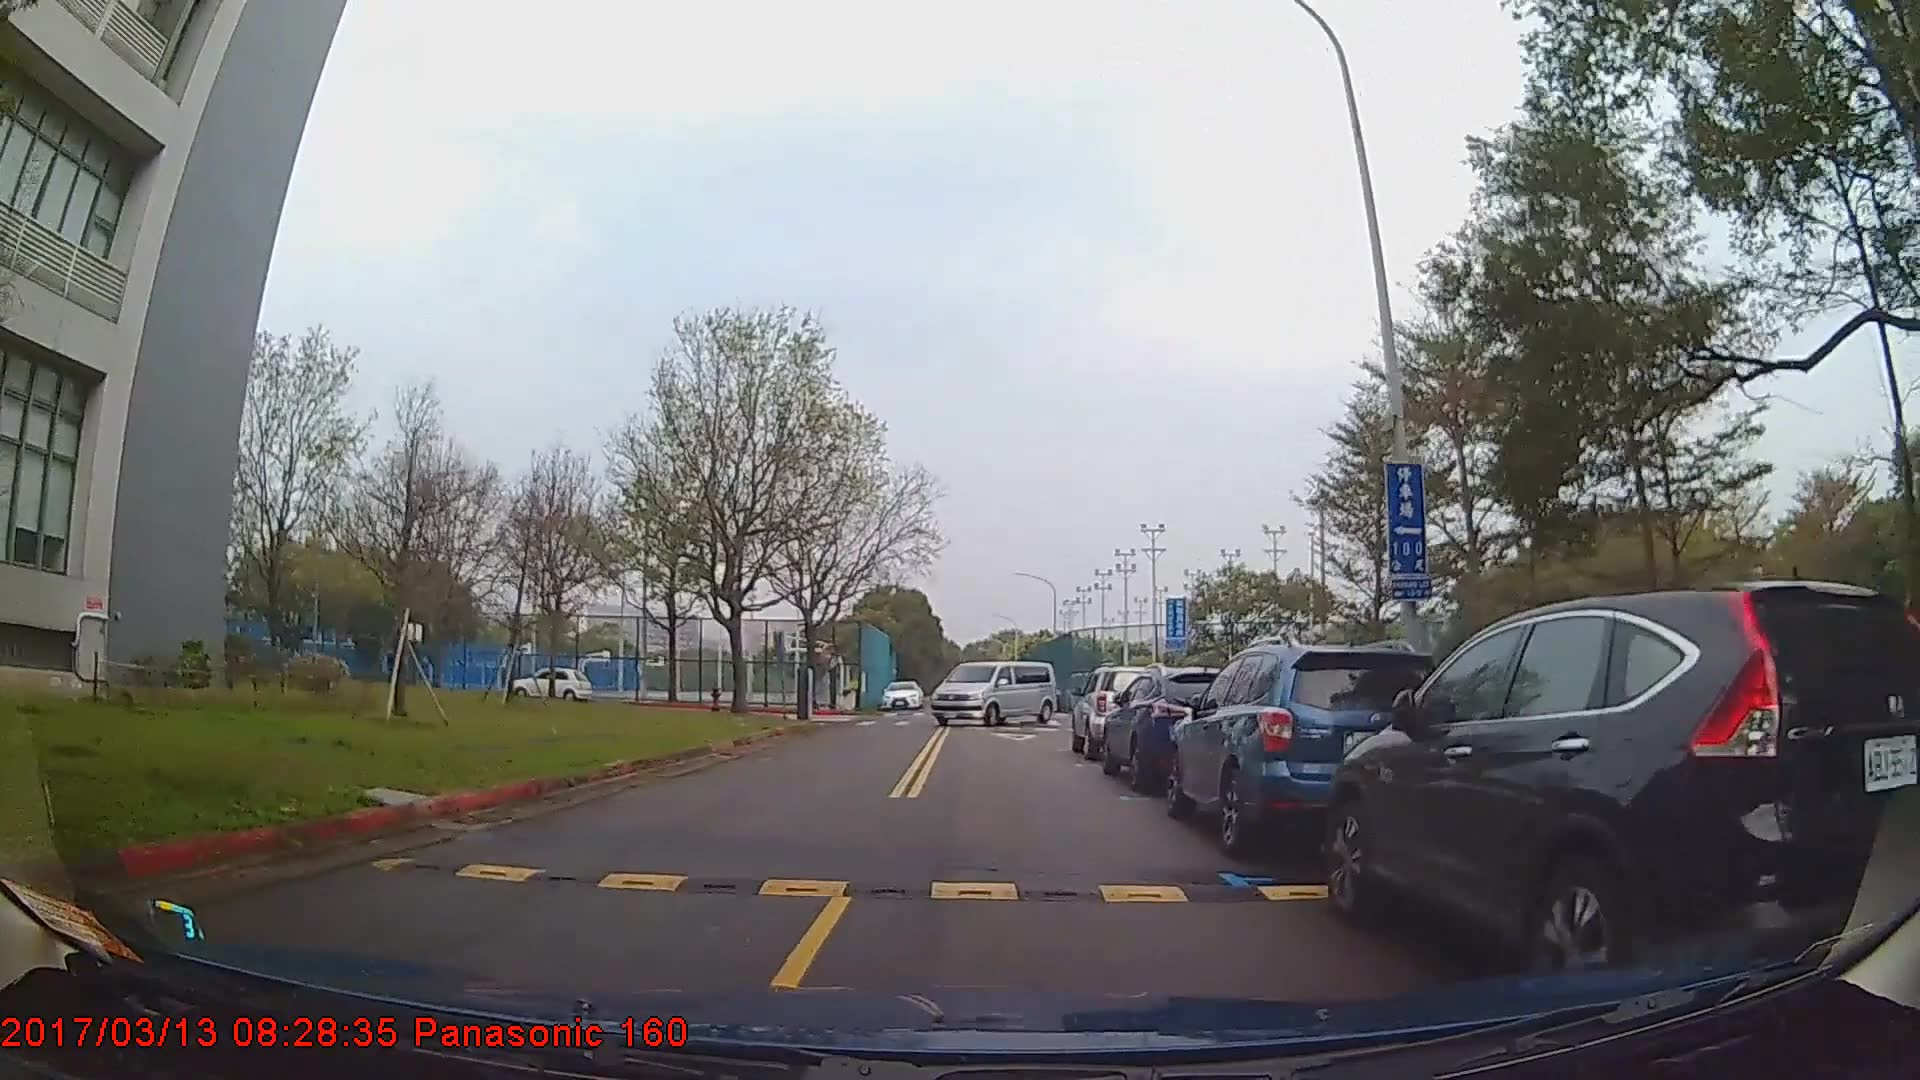vehicle: (1323, 576, 1920, 1001), (1163, 644, 1445, 851), (1100, 662, 1247, 789), (928, 657, 1058, 727), (1069, 663, 1162, 760), (512, 663, 591, 703), (878, 678, 922, 709)
